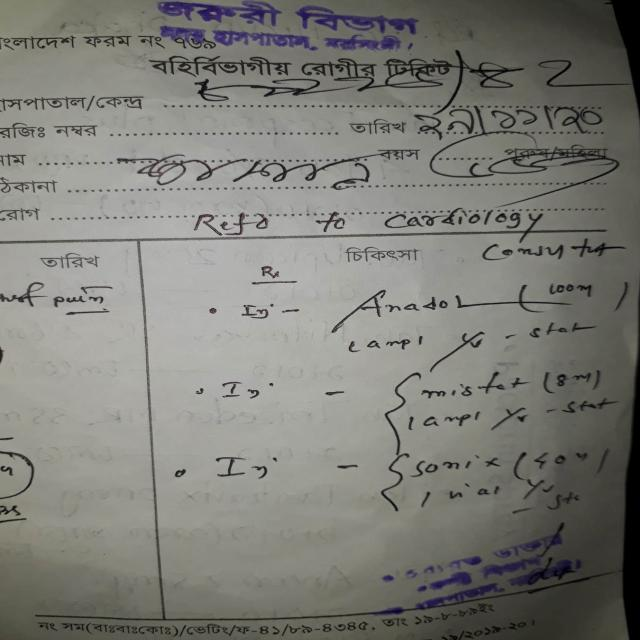Anadol: (334, 290, 519, 319)
Emistat: (386, 369, 536, 407)
Esonix M: (368, 451, 508, 478)
